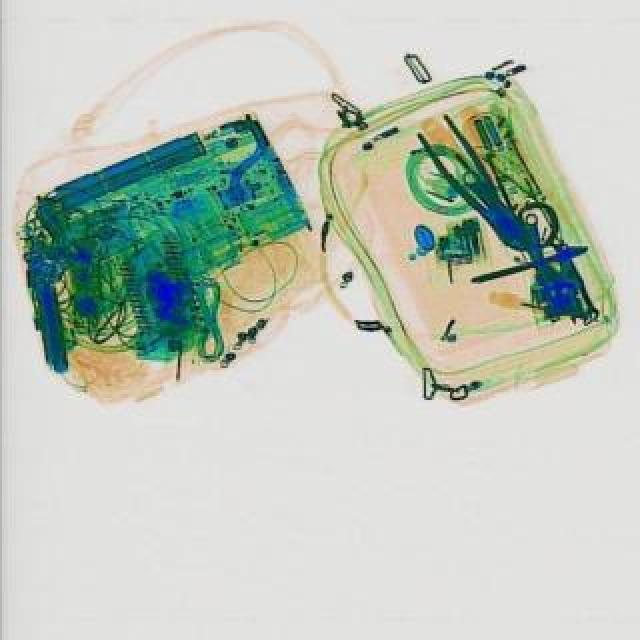wrench: (410, 112, 544, 268)
